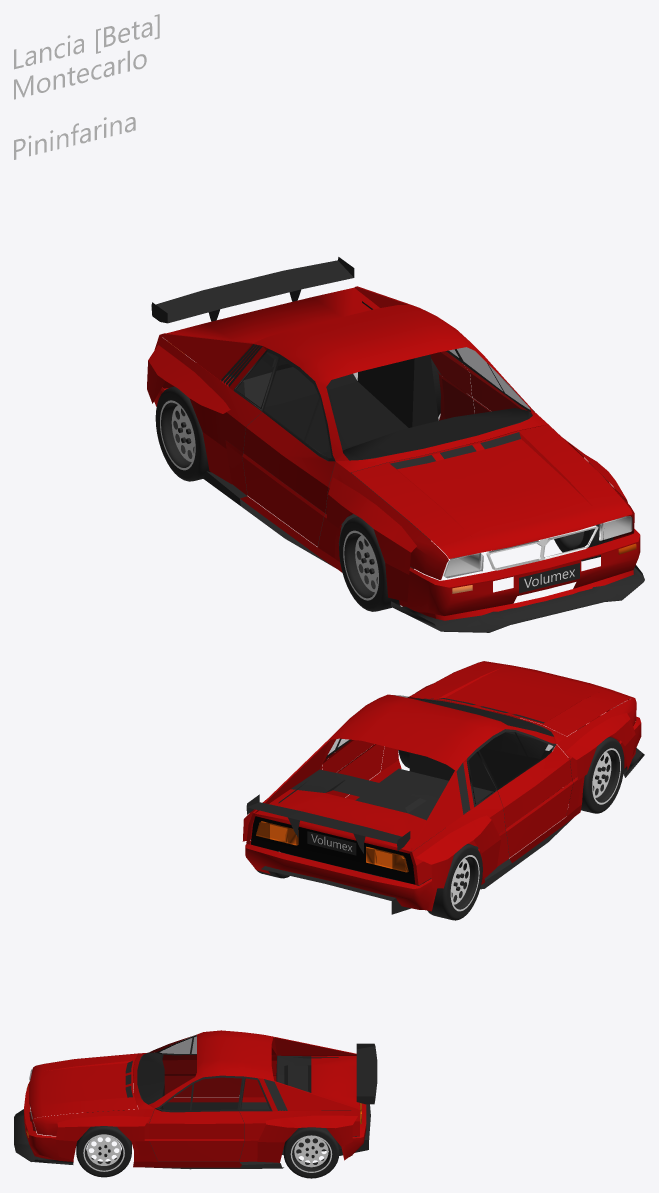
Rendered from martin.glb.
3 views of the same model, one above another, from view 1: azimuth 30°, elevation 25°; view 2: azimuth 150°, elevation 25°; view 3: azimuth 270°, elevation 25° (orthographic). The views are drawn at different scales.
Visible parts, largest first — view 1: hood, screen, sw, diffusor, roof, front_u, sw_u, klappe, wing, wv, wh, spoiler (+10 smaller); view 2: hood, heck, roof, sw, klappe, diffusor, sw_u, screen, wh, c, Rad_2, Rad (+6 smaller); view 3: sw, sw_u, hood, screen, roof, klappe, wh, c, wv, diffusor, Rad, Rad_2 (+12 smaller).
Part boxes in pixels (x1=…): hood: x1=351, y1=424, x2=632, y2=558; screen: x1=264, y1=347, x2=532, y2=460; sw: x1=154, y1=287, x2=634, y2=579; diffusor: x1=228, y1=301, x2=466, y2=562; roof: x1=252, y1=305, x2=535, y2=461; front_u: x1=399, y1=529, x2=640, y2=620; sw_u: x1=225, y1=372, x2=517, y2=572; klappe: x1=167, y1=287, x2=379, y2=379; wing: x1=151, y1=257, x2=354, y2=323; wv: x1=326, y1=437, x2=627, y2=601; wh: x1=147, y1=345, x2=465, y2=484; spoiler: x1=391, y1=565, x2=644, y2=632; hood: x1=408, y1=661, x2=633, y2=736; heck: x1=245, y1=816, x2=437, y2=911; roof: x1=328, y1=694, x2=556, y2=771; sw: x1=246, y1=661, x2=636, y2=885; klappe: x1=255, y1=769, x2=438, y2=853; diffusor: x1=261, y1=747, x2=566, y2=914; sw_u: x1=325, y1=744, x2=584, y2=884; screen: x1=328, y1=695, x2=553, y2=786; wh: x1=242, y1=798, x2=500, y2=888; c: x1=253, y1=739, x2=474, y2=851; Rad_2: x1=250, y1=839, x2=482, y2=920; Rad: x1=398, y1=698, x2=624, y2=813; sw: x1=33, y1=1052, x2=359, y2=1138; sw_u: x1=131, y1=1074, x2=279, y2=1167; hood: x1=29, y1=1053, x2=138, y2=1119; screen: x1=137, y1=1035, x2=241, y2=1109; roof: x1=148, y1=1030, x2=274, y2=1108; klappe: x1=277, y1=1055, x2=359, y2=1109; wh: x1=257, y1=1074, x2=357, y2=1162; c: x1=257, y1=1037, x2=359, y2=1111; wv: x1=55, y1=1073, x2=149, y2=1160; diffusor: x1=149, y1=1056, x2=370, y2=1161; Rad: x1=76, y1=1110, x2=131, y2=1177; Rad_2: x1=283, y1=1127, x2=339, y2=1178.
Bounding box in the file's own units: 2 × 1.34 × 7.
